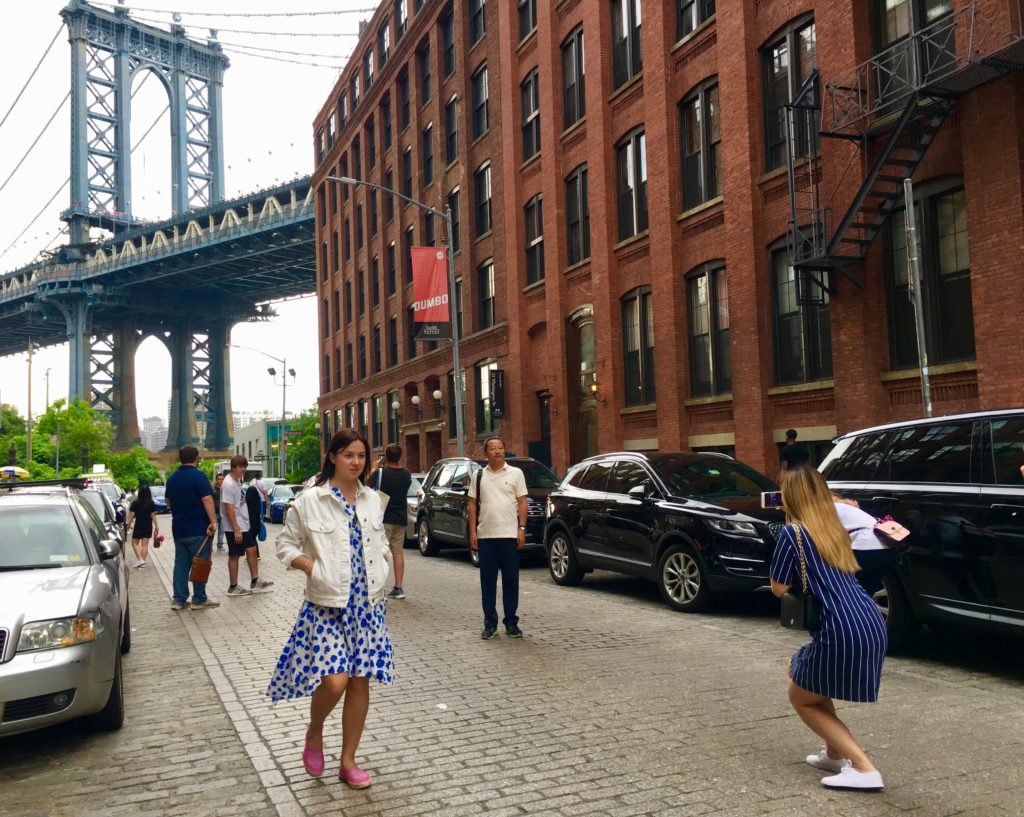person: (755, 464, 900, 801), (267, 427, 399, 794), (461, 435, 538, 654), (160, 443, 225, 619), (216, 450, 279, 601), (376, 439, 412, 606), (115, 481, 165, 580)
